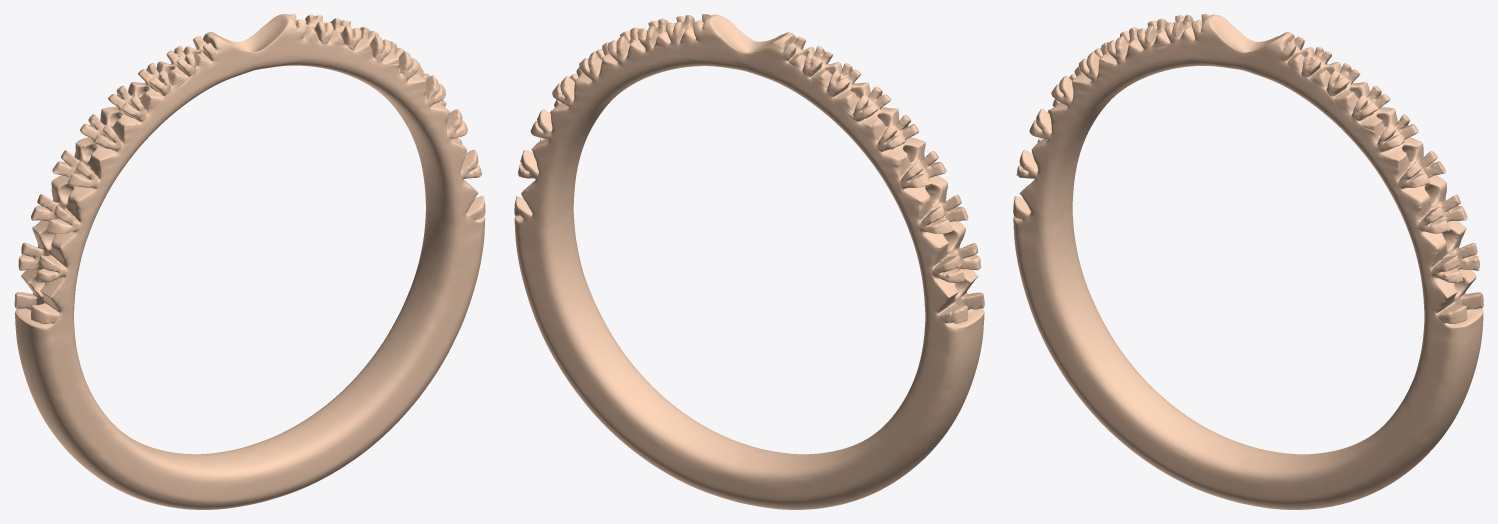
File: Shank_Pinch_French Pave_B_No, Hidden Halo_Band.glb
The picture shows the model from 3 angles, left to right: view 1: azimuth 30°, elevation 25°; view 2: azimuth 150°, elevation 25°; view 3: azimuth 330°, elevation 25°; orthographic projection.
Size of the model in its own units: 0.0213 by 0.0212 by 0.00246.
